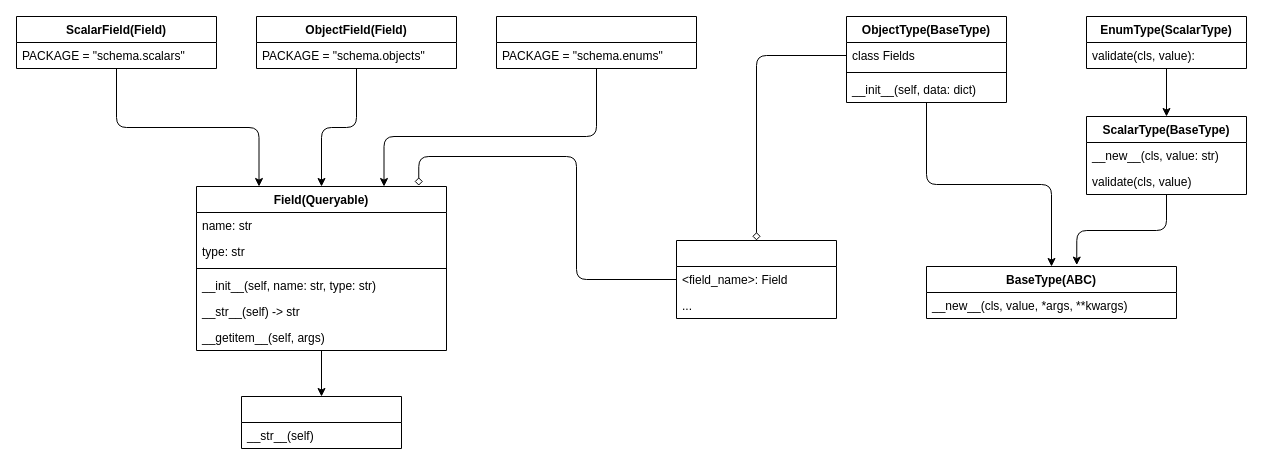
The diagram is 1263 pixels wide and 465 high, and some of its shapes have lost their labels. Each missing label, with the box of its shape:
EnumField(Field): (496, 16, 696, 68)
Fields: (676, 240, 836, 318)
Queryable(ABC): (240, 396, 402, 448)
